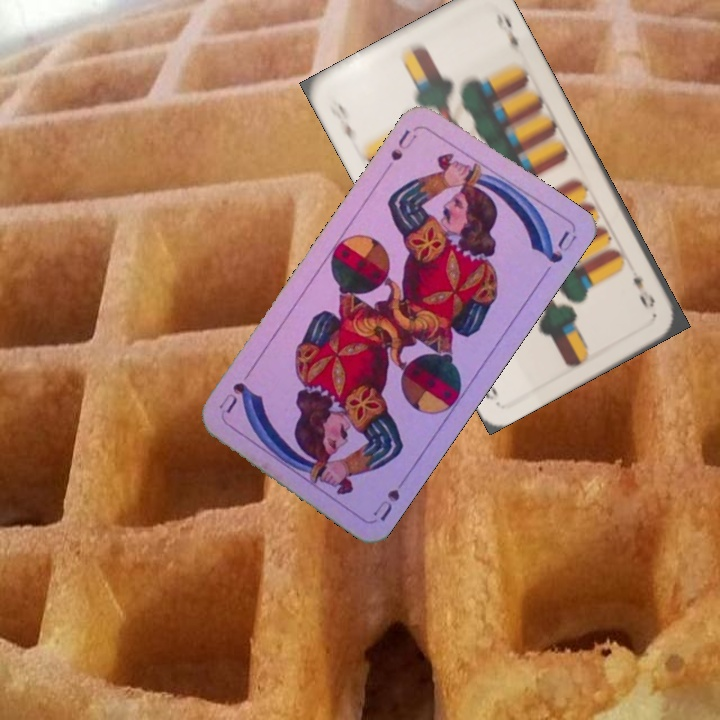E9: (324, 95, 357, 149), (628, 273, 658, 313)
SU: (368, 470, 410, 524), (386, 125, 420, 164)
